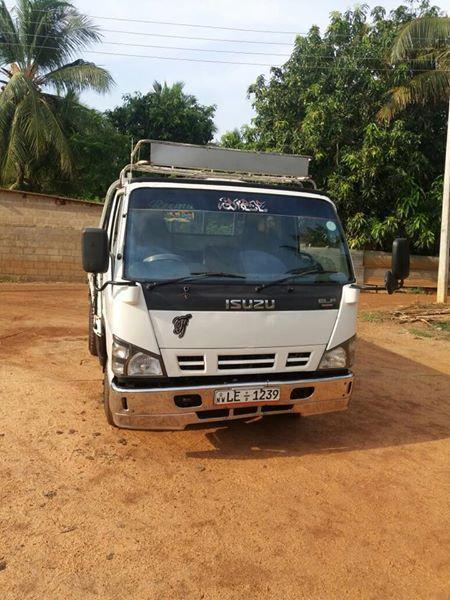license-plate: (214, 388, 278, 400)
